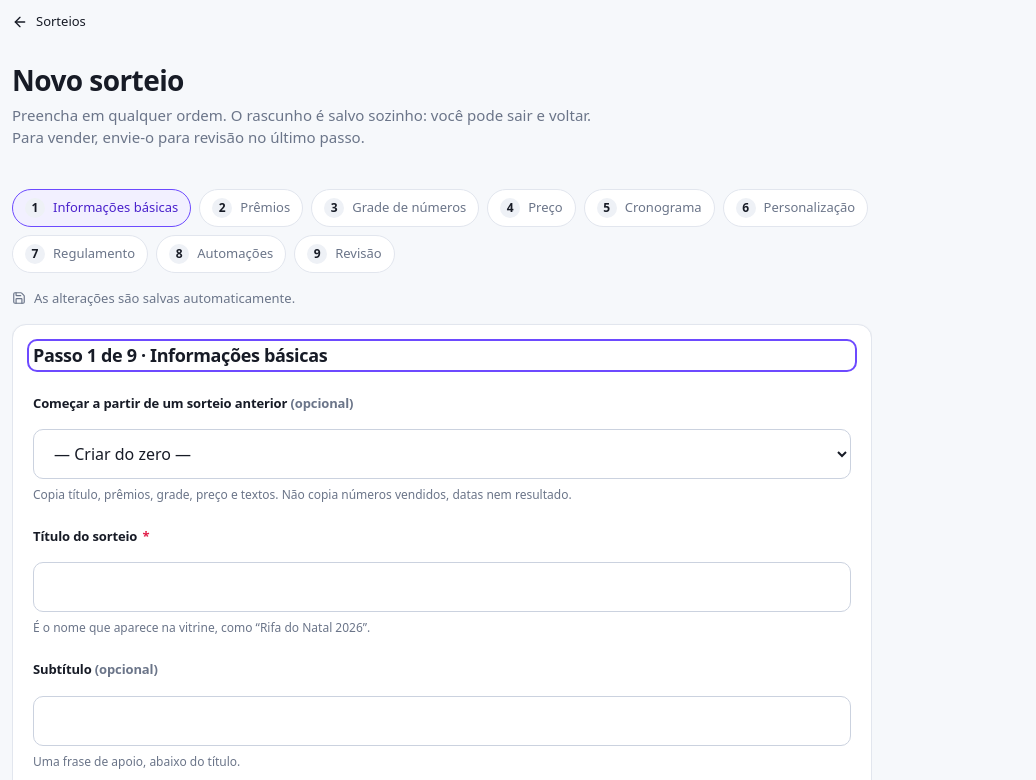
continuar e duplicar › "começar de um sorteio anterior" aparece no passo 1 e preenche o formulario
This screenshot has width=1036, height=780.
Select "Rifa de ontem" in the dropdown labelled "Começar a partir de um sorteio anterior (opcional)" at x=442, y=454, box x1=33 y1=429 x2=851 y2=479
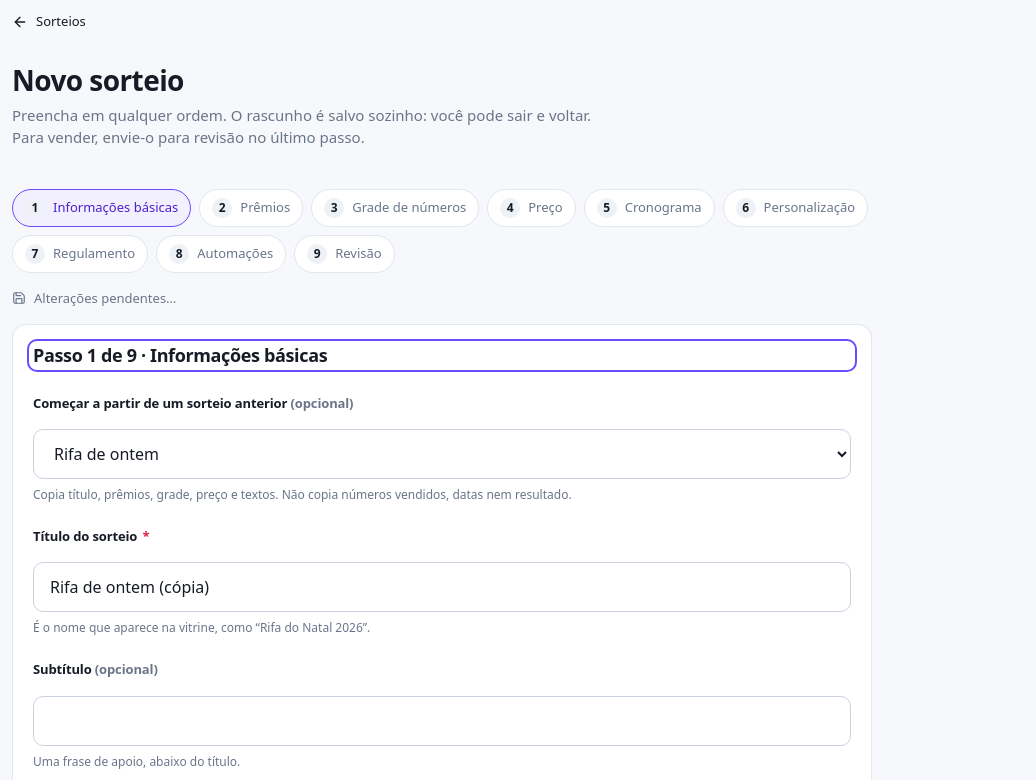
expect the field labelled "Título do sorteio *" holds "Rifa de ontem (cópia)": met, box x1=33 y1=562 x2=851 y2=612
